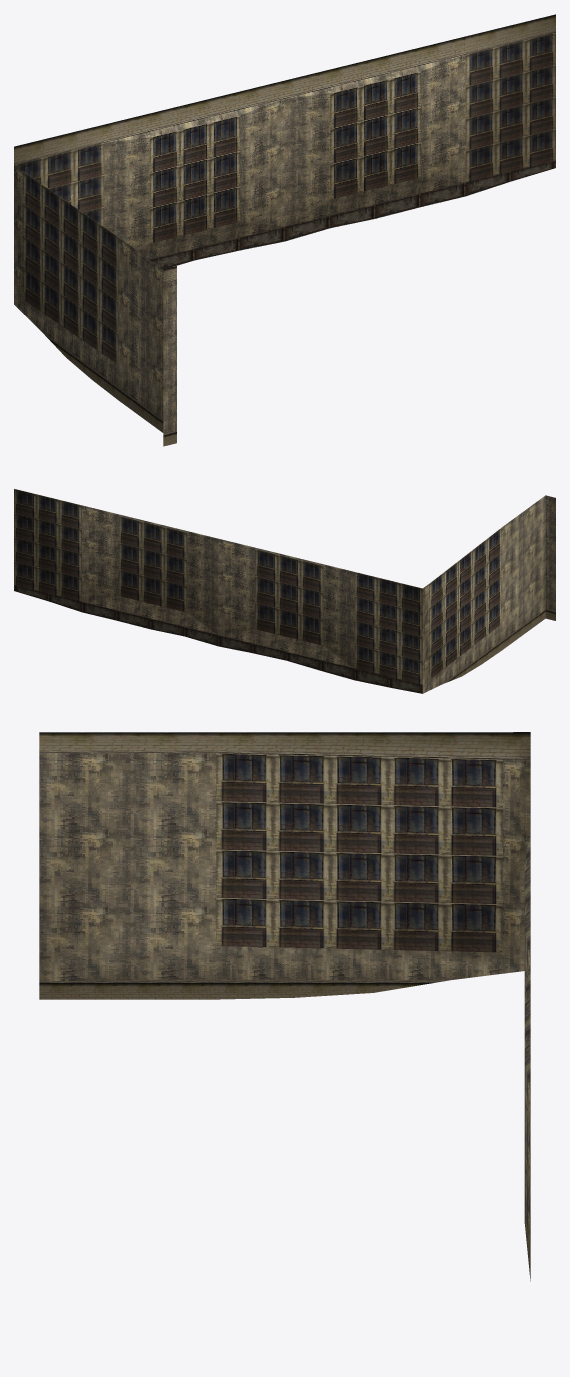
File: M10_Z2_NewBuild06.glb
3 renders of one model, top to bottom at view 1: azimuth 30°, elevation 25°; view 2: azimuth 150°, elevation 25°; view 3: azimuth 270°, elevation 25°, orthographic. The views are drawn at different scales.
Visible parts, largest first — view 1: M10_Z2_NEWBUILD06; view 2: M10_Z2_NEWBUILD06; view 3: M10_Z2_NEWBUILD06.
Boxes of the visible parts, x1,y1,x2,y2 form: M10_Z2_NEWBUILD06: (14, 14, 555, 446); M10_Z2_NEWBUILD06: (14, 489, 555, 693); M10_Z2_NEWBUILD06: (39, 732, 530, 1281).
Bounding box in the file's own units: 49.22 × 15.01 × 25.
Materials: 4 (4 with a texture image).
